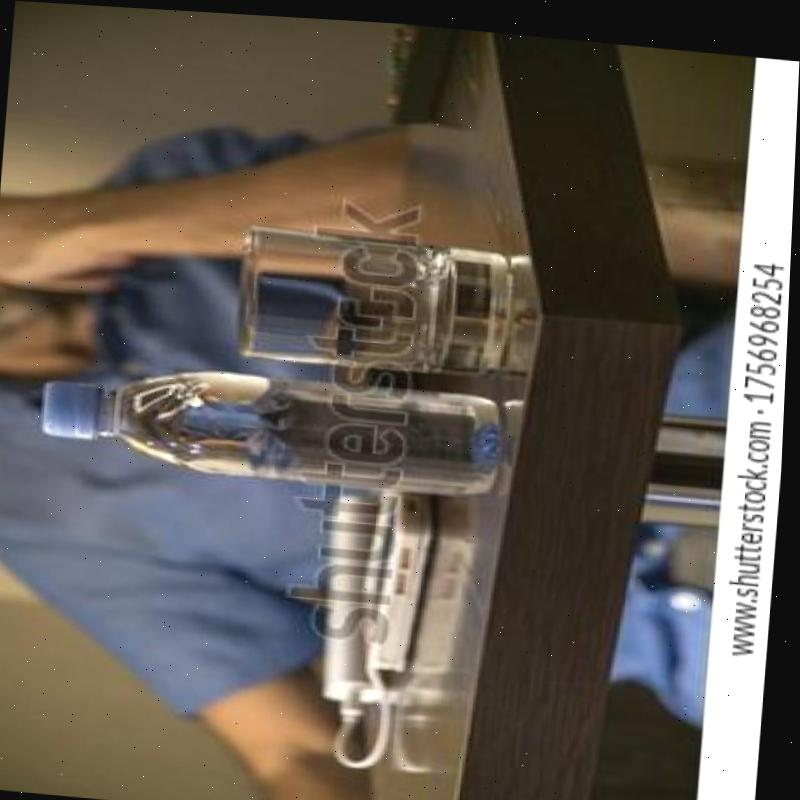botella: (40, 348, 506, 493)
